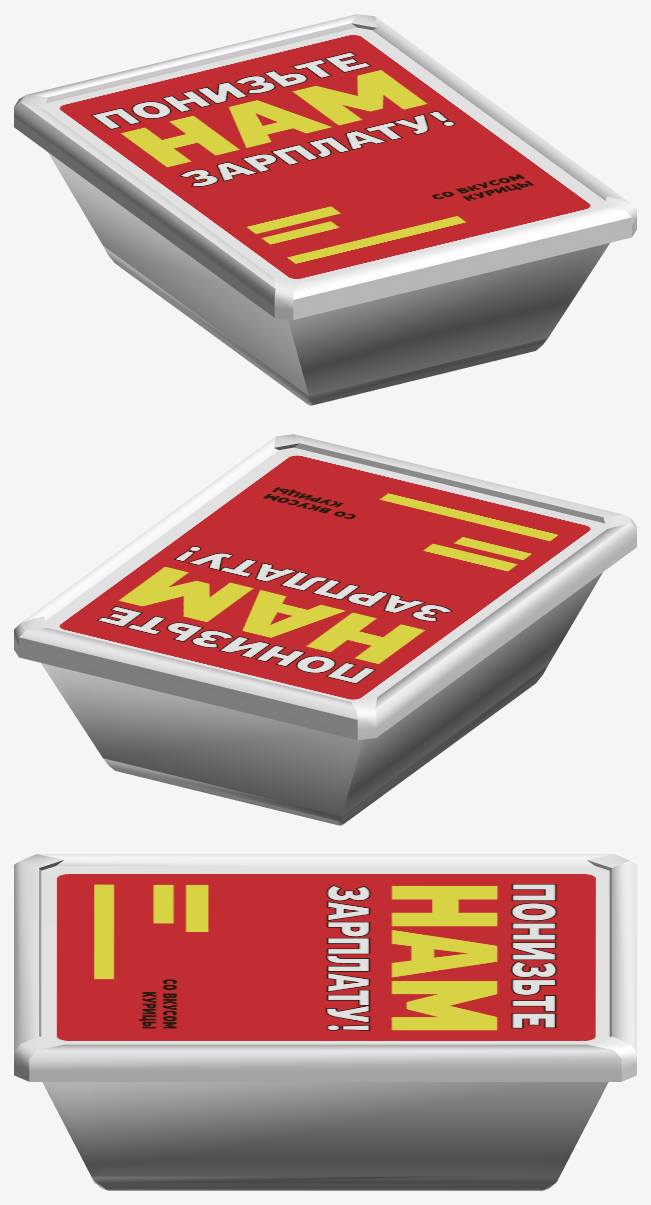
Rendered from Dosh.fbx.
3 renders of one model, top to bottom at view 1: azimuth 30°, elevation 25°; view 2: azimuth 150°, elevation 25°; view 3: azimuth 270°, elevation 25°, orthographic. The views are drawn at different scales.
Visible parts, largest first — view 1: Cube; view 2: Cube; view 3: Cube.
Part boxes in pixels (left/top/right/bottom): Cube: left=14, top=14, right=636, bottom=405; Cube: left=14, top=434, right=636, bottom=825; Cube: left=14, top=854, right=636, bottom=1190.
Bounding box in the file's own units: 153 × 62.84 × 200.
Materials: 1 (1 with a texture image).
